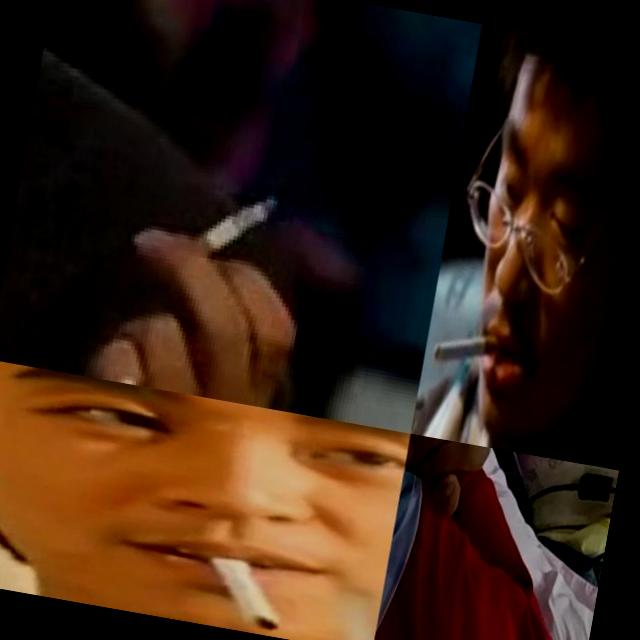smoke: (172, 180, 280, 280), (193, 545, 292, 633), (431, 320, 506, 374)
